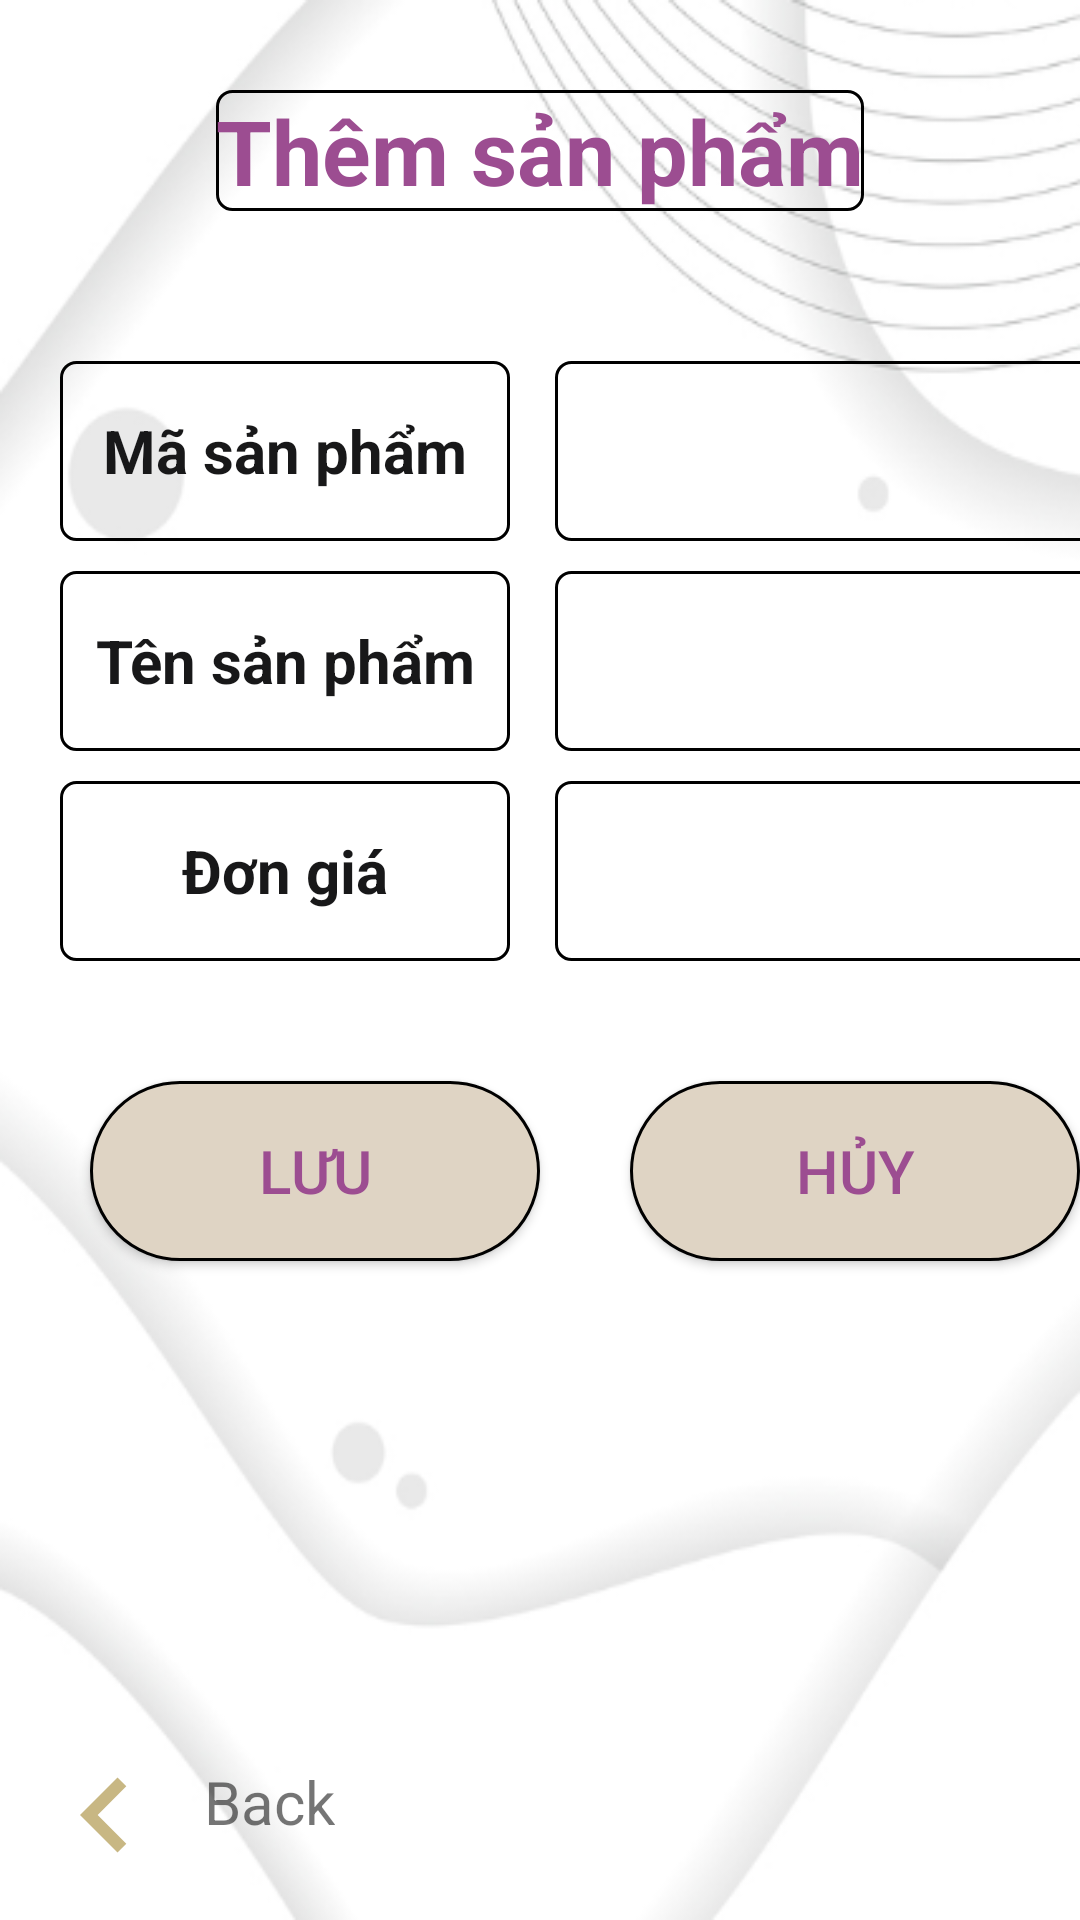

Screen size 1080px×1920px. Icon name, then its box in pixels as [left=x1, top=y1, right=x2, bottom=y2]:
chevron left: [left=80, top=1777, right=126, bottom=1853]
